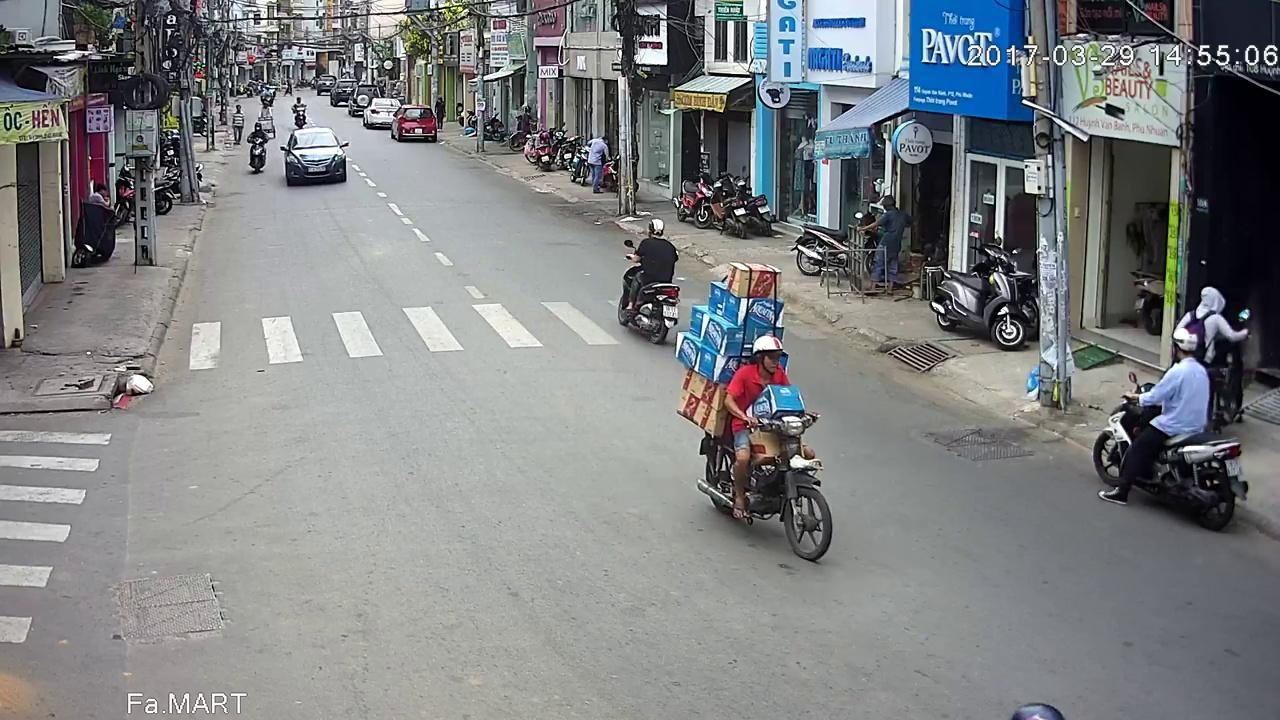xe hoi: (284, 126, 353, 187), (390, 106, 437, 143)
xe may: (696, 339, 841, 566), (1094, 329, 1249, 525), (613, 220, 682, 347), (247, 126, 268, 175), (292, 94, 309, 125)
